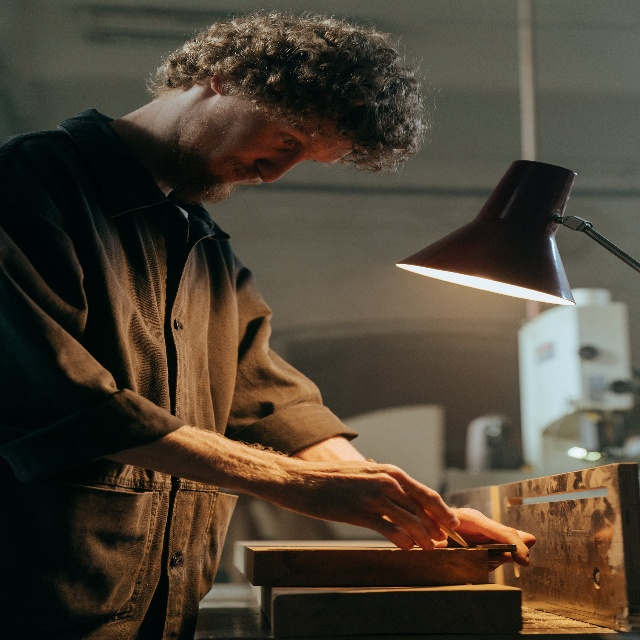Sin_guantes: (301, 454, 459, 552), (448, 501, 537, 569)
